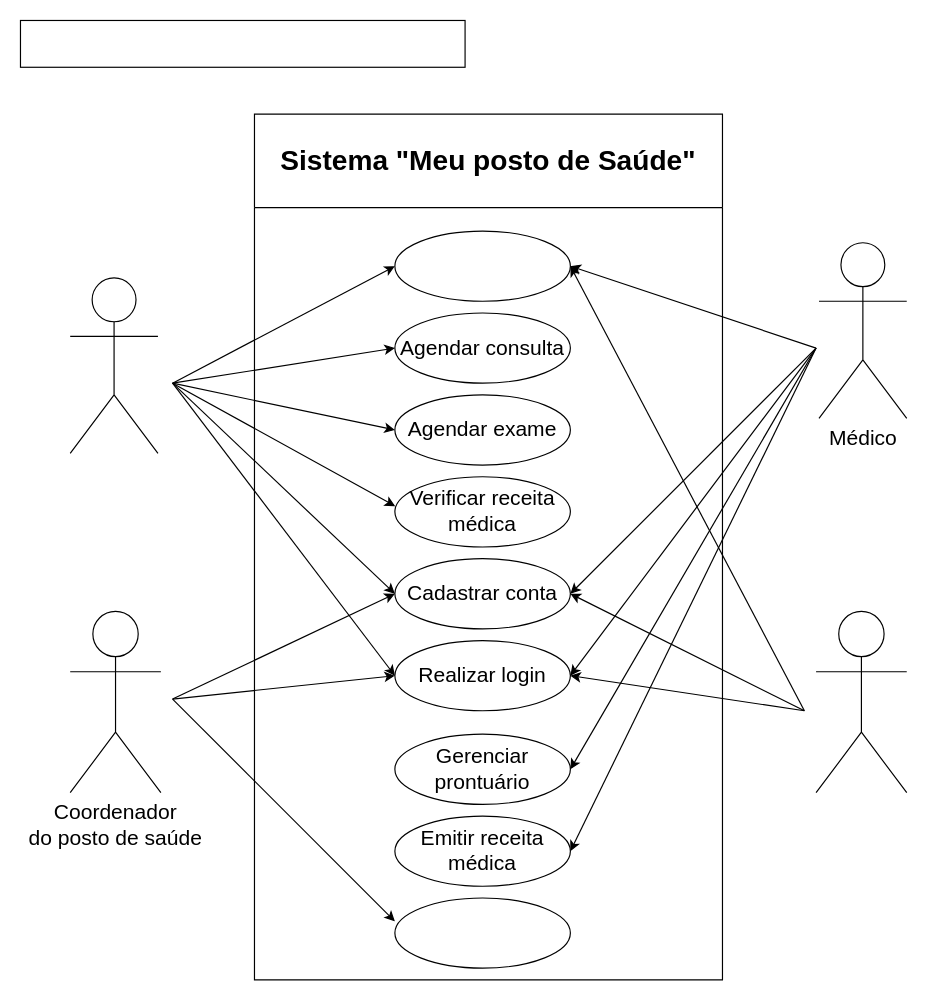
Image size: 934x1000. Some labels were removed from this diagram. Here are the shapes that lost their labels. From the top down, the centre of each, then its label:
At [242,43]: "Diagrama de Casos de Uso Comportamental".
At [482,265]: "Acessar histório médico".
At [113,365]: "Paciente".
At [861,701]: "Enfermeiro".
At [482,932]: "Gerenciar usuários/sistema".
